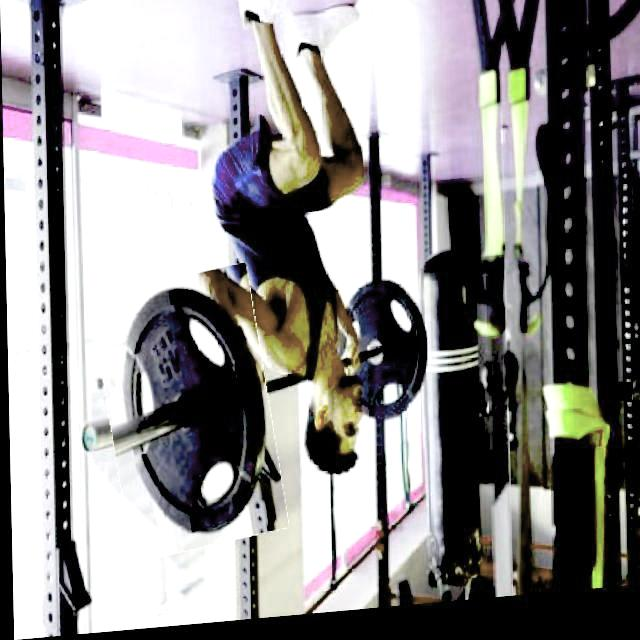barbell: (98, 271, 278, 562)
